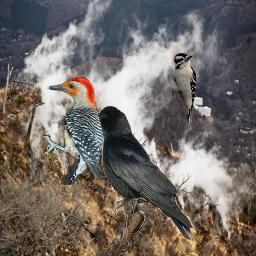Crow: (83, 105, 193, 241)
Cuckoo: (120, 199, 159, 248)
Woodpecker: (42, 77, 106, 185), (171, 53, 196, 124)
